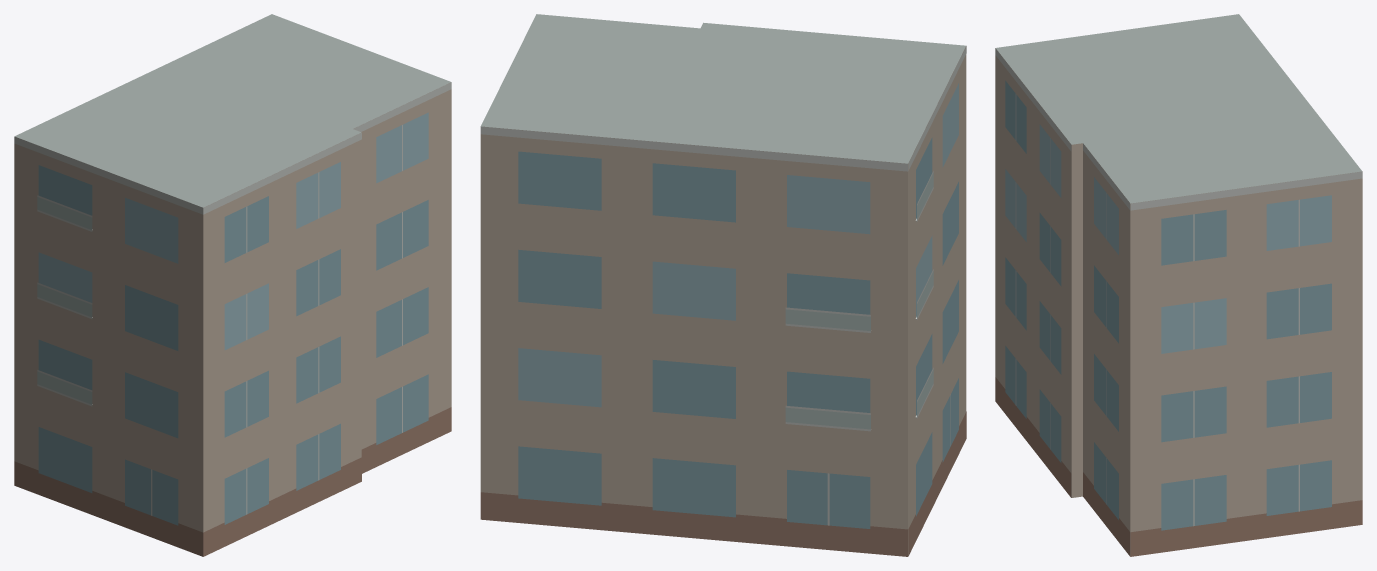
Rendered from survey-upis-32939269.glb.
3 renders of one model, left to right at view 1: azimuth 30°, elevation 25°; view 2: azimuth 150°, elevation 25°; view 3: azimuth 270°, elevation 25°, orthographic. The views are drawn at different scales.
Parts seen in each view (by area): view 1: survey-upis-32939269.tmp; view 2: survey-upis-32939269.tmp; view 3: survey-upis-32939269.tmp.
Part boxes in pixels (<box>): survey-upis-32939269.tmp: <box>14,14,451,556</box>; survey-upis-32939269.tmp: <box>480,14,966,556</box>; survey-upis-32939269.tmp: <box>995,14,1362,556</box>.
Bounding box in the file's own units: 13.99 × 12.15 × 11.45.
